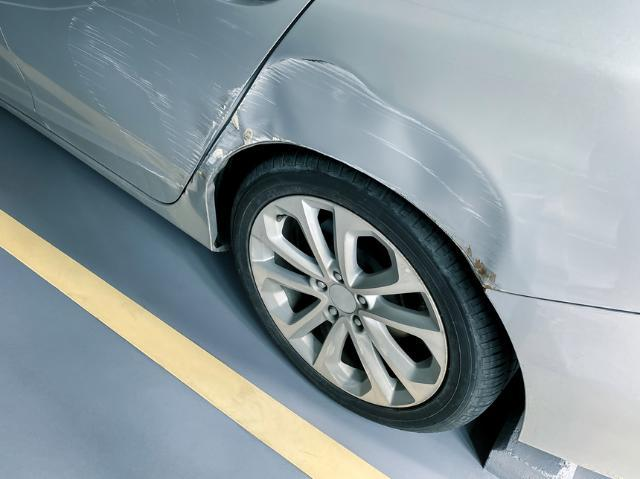Door: (0, 0, 363, 199)
Fender: (165, 0, 640, 358)
